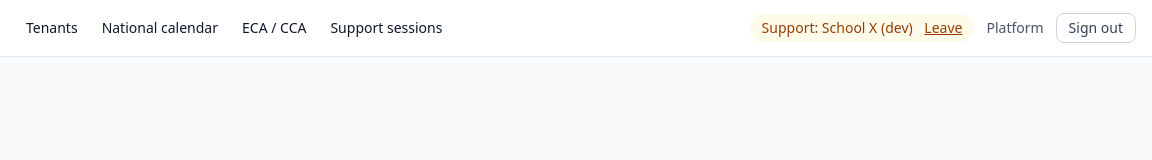
Scenario: PlatformNav › shows support-session badge and leave clears it
Expected: the text "Support: School X (dev) Leave" is shown, [750,14,974,42]
Click the button "Leave" at (943, 28), box [924,18,962,38]
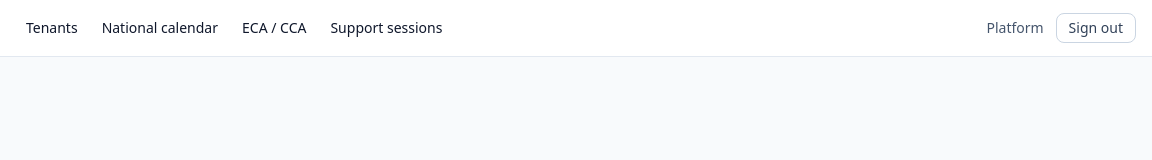
Expected: the text "Support:" is gone
